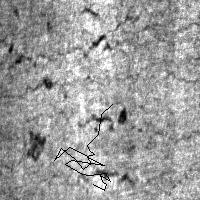crazing: (47, 102, 152, 188), (3, 26, 126, 95), (132, 3, 200, 89), (54, 104, 112, 190)
